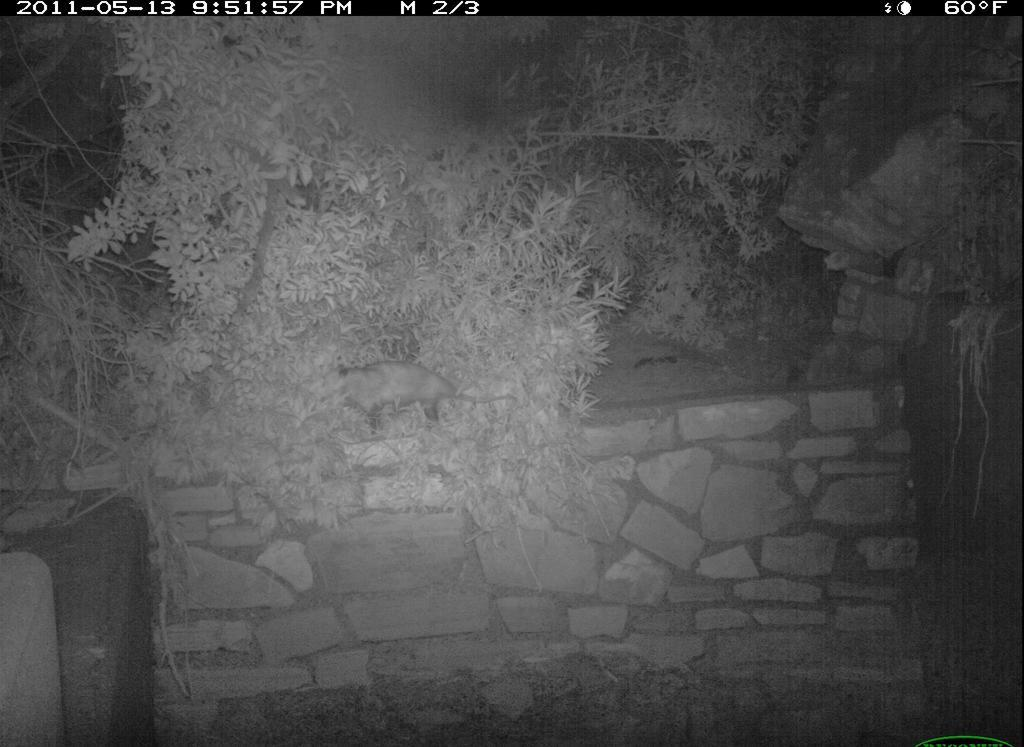opossum: (328, 347, 524, 440)
